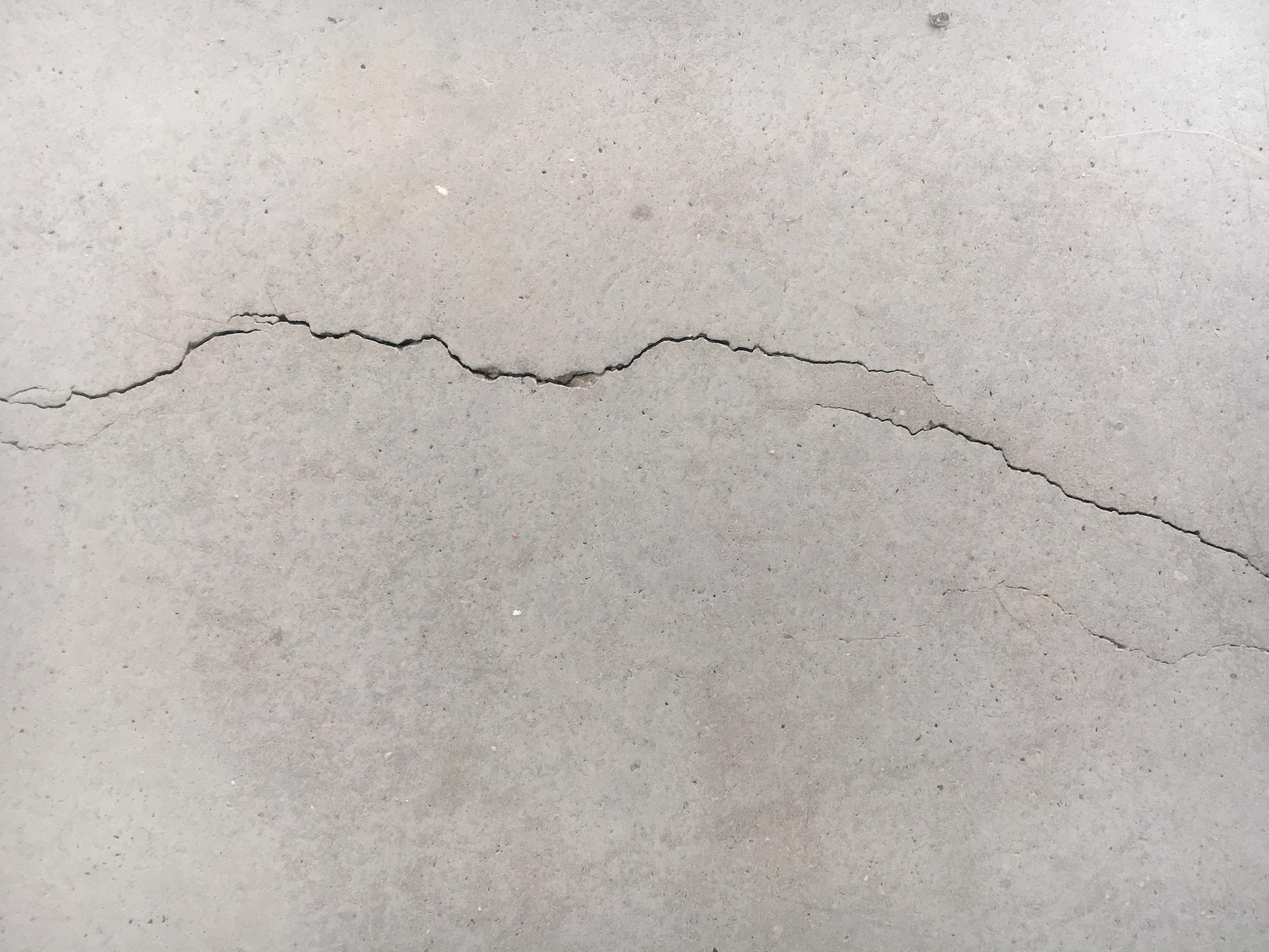Structural-Crack: (3, 308, 1266, 663)
